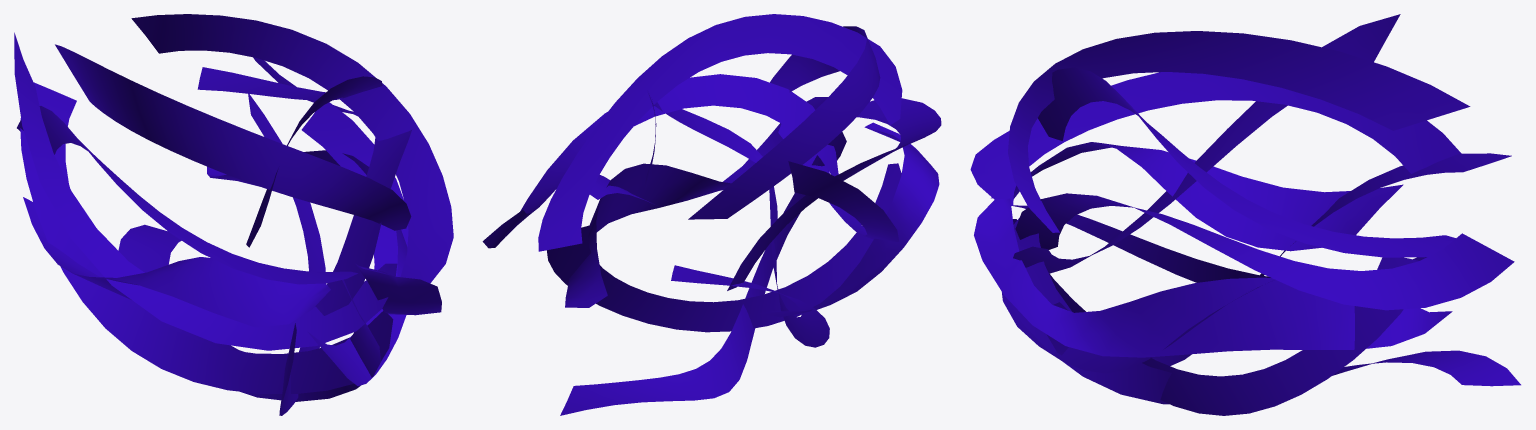
The model's file is SM_EFF_Fireball_D_01.mo.fbx.
3 renders of one model, left to right at view 1: azimuth 30°, elevation 25°; view 2: azimuth 150°, elevation 25°; view 3: azimuth 270°, elevation 25°, orthographic. The views are drawn at different scales.
Parts seen in each view (by area): view 1: SM_EFF_Fireball_D_01.mo; view 2: SM_EFF_Fireball_D_01.mo; view 3: SM_EFF_Fireball_D_01.mo.
Boxes of the visible parts, left/top/right/bottom form: SM_EFF_Fireball_D_01.mo: left=14, top=14, right=453, bottom=415; SM_EFF_Fireball_D_01.mo: left=482, top=14, right=941, bottom=415; SM_EFF_Fireball_D_01.mo: left=970, top=14, right=1520, bottom=415.
Bounding box in the file's own units: 4.2 × 3.81 × 5.68.
